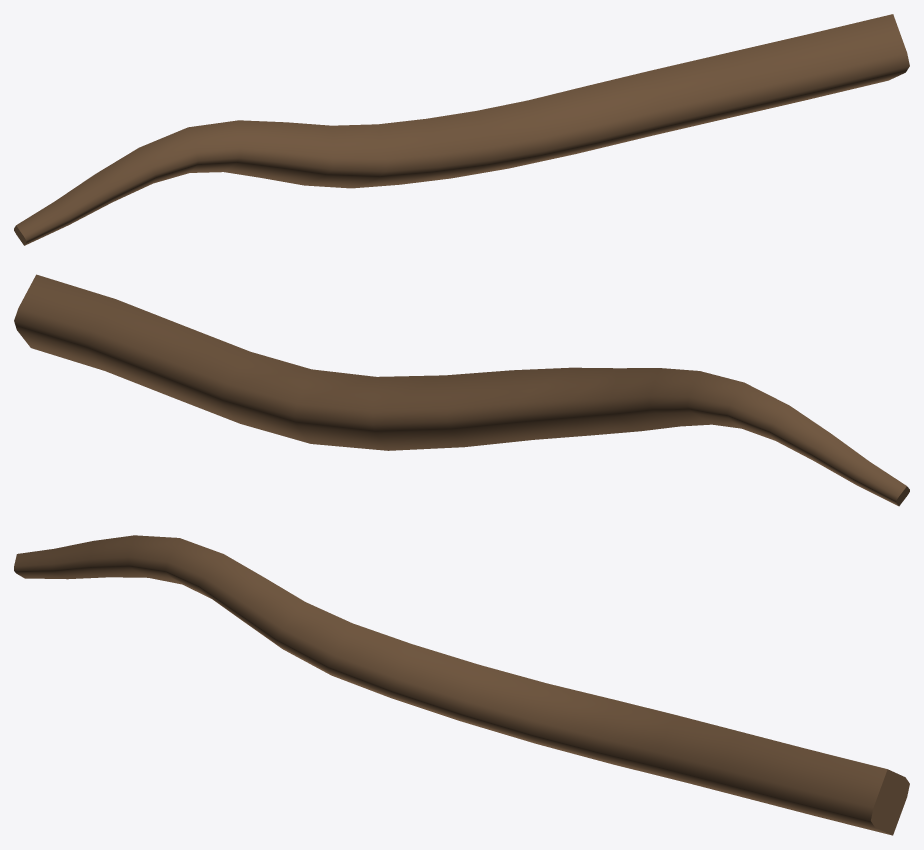
Rendered from SM_Skyisland_Root_Var6.fbx.
The picture shows the model from 3 angles, top to bottom: view 1: azimuth 30°, elevation 25°; view 2: azimuth 150°, elevation 25°; view 3: azimuth 330°, elevation 25°; orthographic projection.
Parts seen in each view (by area): view 1: BezierCurve.068; view 2: BezierCurve.068; view 3: BezierCurve.068.
Part boxes in pixels (x1=…): BezierCurve.068: x1=14, y1=14, x2=909, y2=245; BezierCurve.068: x1=14, y1=274, x2=909, y2=506; BezierCurve.068: x1=14, y1=535, x2=909, y2=835.
Bounding box in the file's own units: 520 × 82.07 × 66.74.
